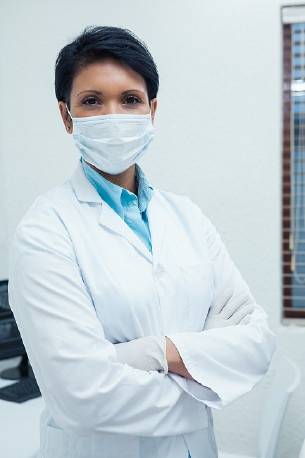Mask: (66, 85, 153, 172)
